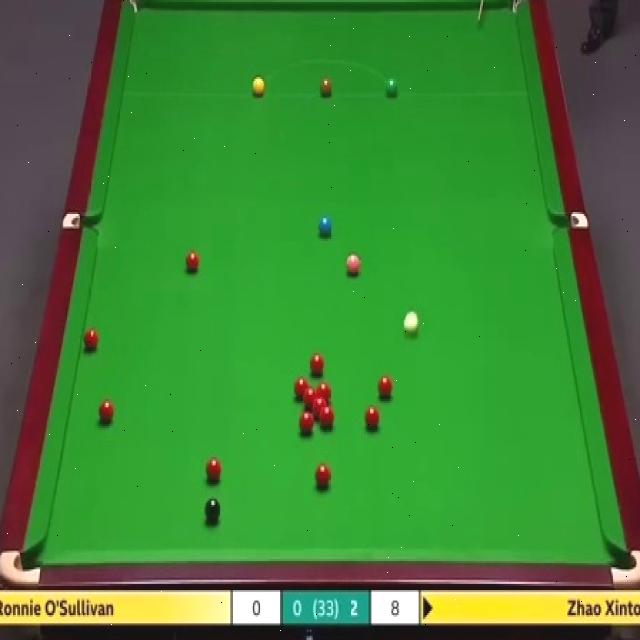black-ball: (204, 497, 223, 521)
blue-ball: (318, 214, 332, 240)
brown-ball: (319, 77, 333, 96)
green-ball: (385, 77, 399, 96)
pink-ball: (346, 256, 361, 278)
red-ball: (95, 396, 114, 424), (82, 327, 101, 355), (314, 463, 332, 490), (292, 375, 310, 401), (206, 456, 223, 482), (375, 376, 394, 399), (308, 353, 327, 376), (364, 406, 381, 431), (318, 408, 336, 431), (298, 410, 314, 435), (316, 383, 332, 407), (303, 388, 319, 410), (185, 253, 200, 272), (312, 399, 326, 416)
white-ball: (403, 306, 420, 337)
yellow-ball: (252, 77, 266, 96)
